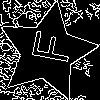F: (22, 27, 73, 66)
